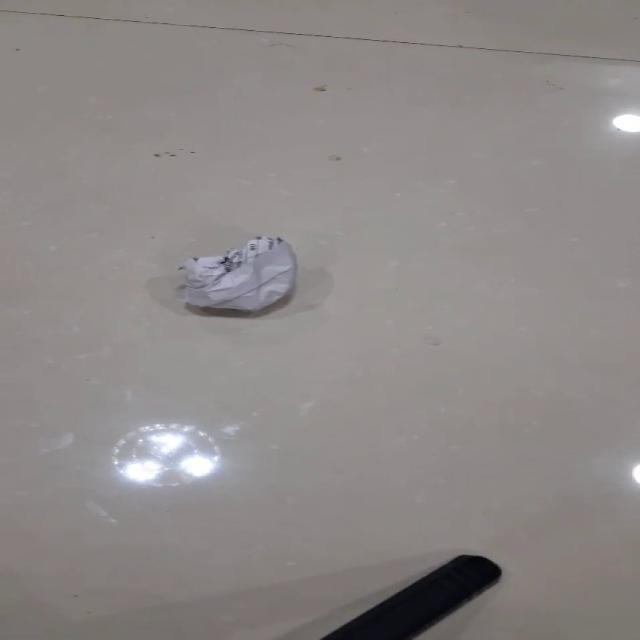paper: (177, 234, 297, 313)
